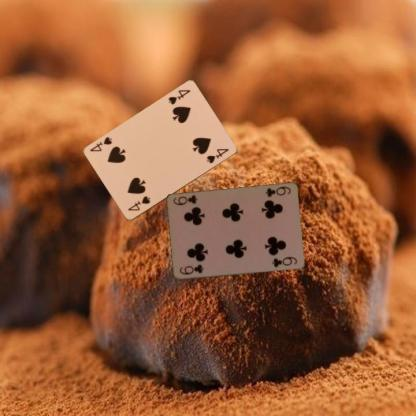4s: (165, 88, 192, 106), (126, 194, 152, 212)
6c: (263, 184, 292, 198), (176, 262, 204, 276)
